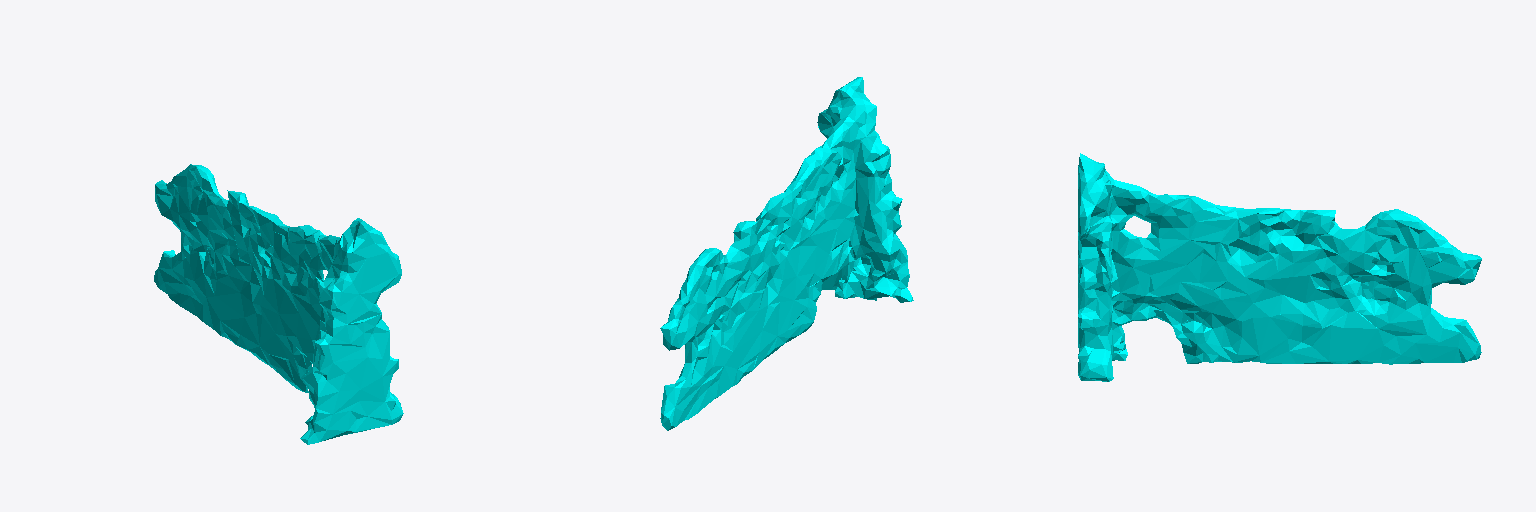
The model's file is Wall3_Concrete.obj.
The picture shows the model from 3 angles: view 1: azimuth 30°, elevation 25°; view 2: azimuth 150°, elevation 25°; view 3: azimuth 270°, elevation 25°; orthographic projection.
Visible parts, largest first — view 1: Wall3_Concrete_low; view 2: Wall3_Concrete_low; view 3: Wall3_Concrete_low.
Part boxes in pixels (left/top/right/bottom): Wall3_Concrete_low: left=154, top=164, right=403, bottom=444; Wall3_Concrete_low: left=660, top=77, right=913, bottom=430; Wall3_Concrete_low: left=1078, top=153, right=1481, bottom=381.
Size of the model in its own units: 1.34 by 2.71 by 4.72.